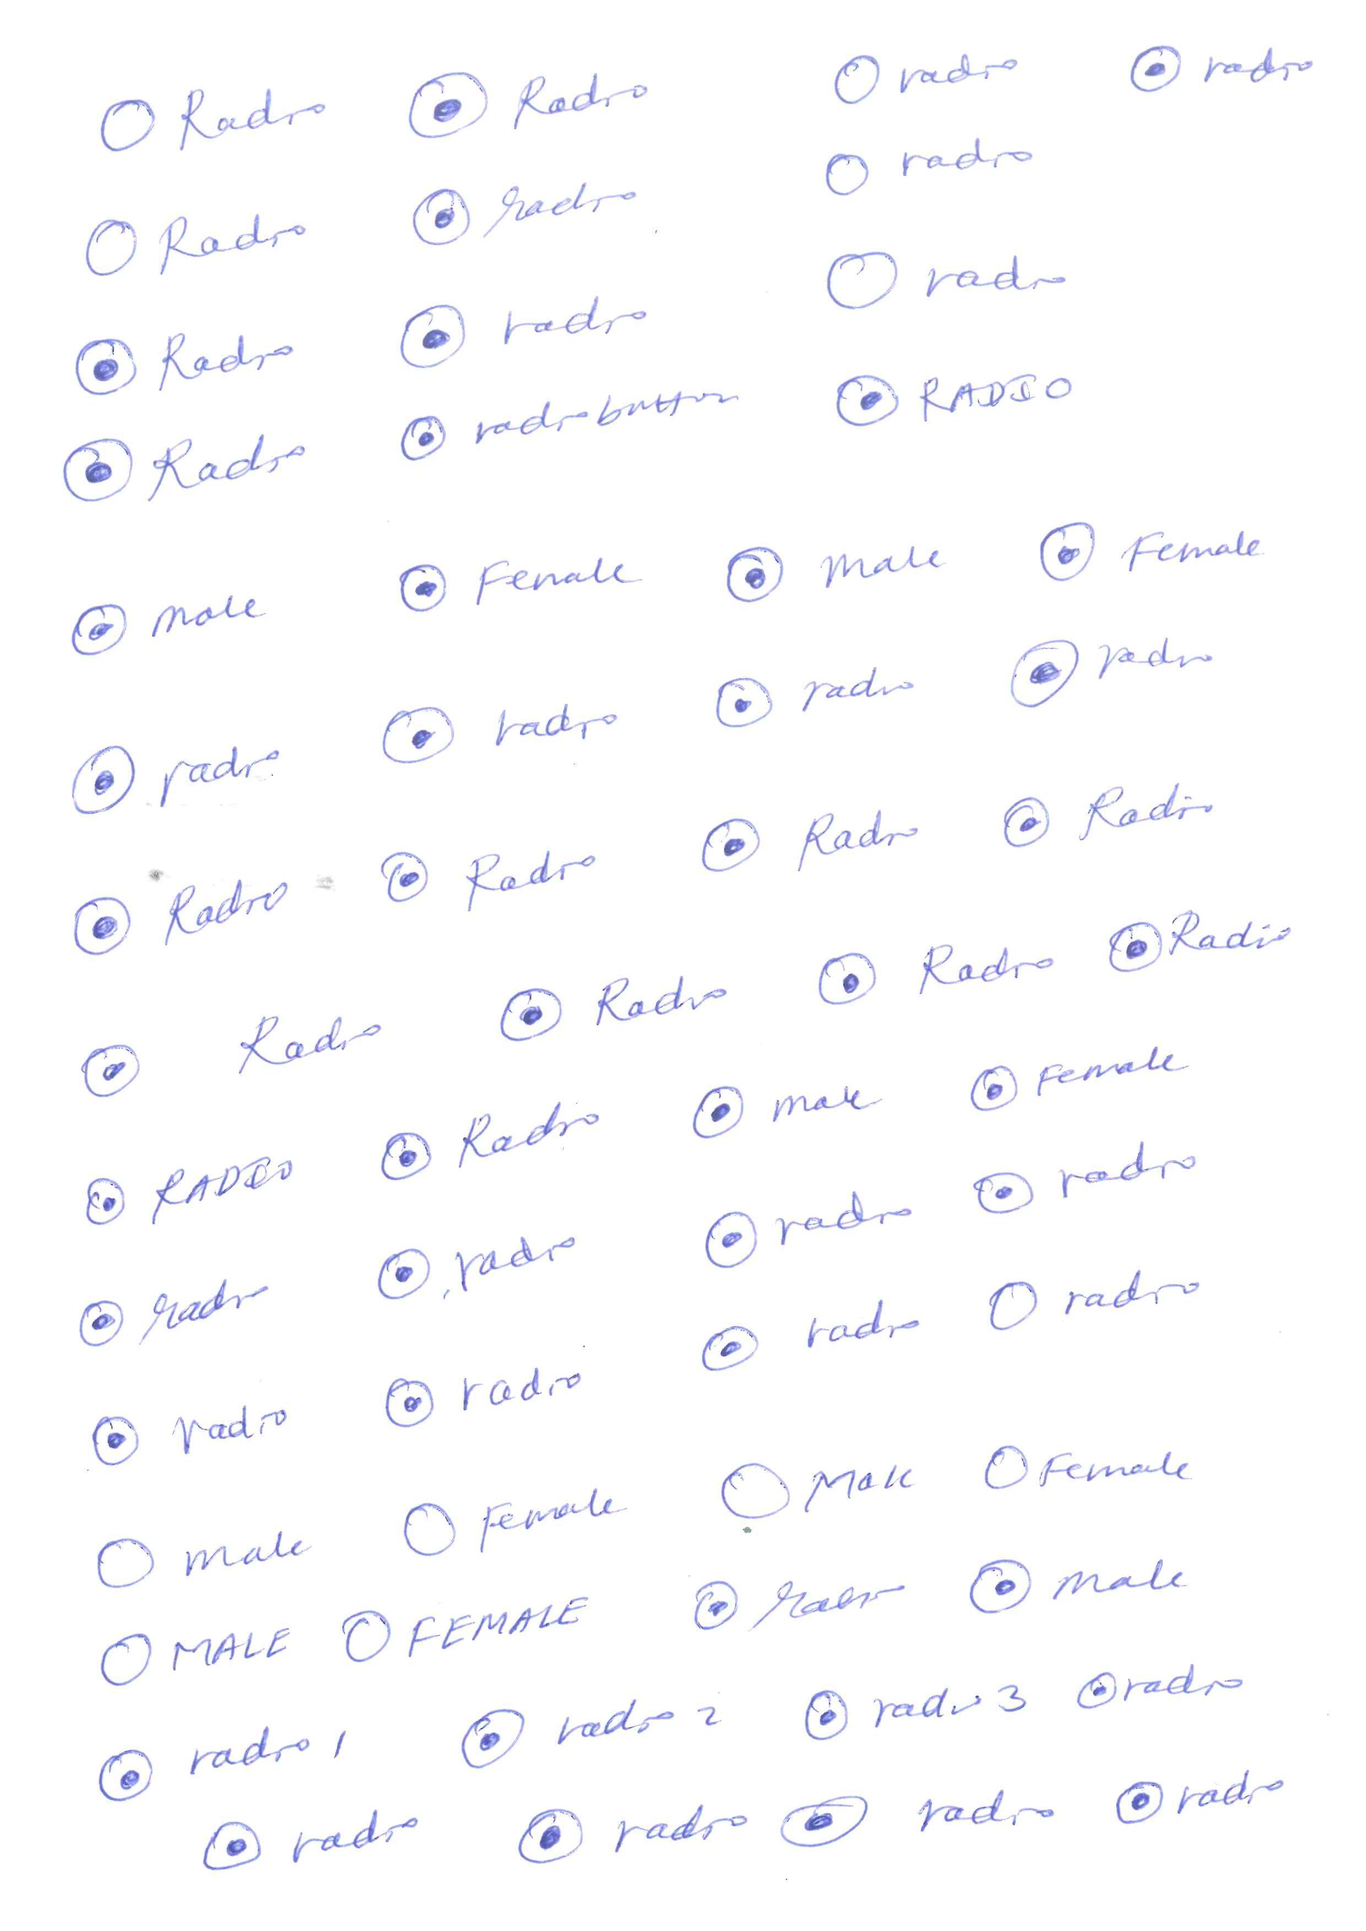Radio Button: (399, 386, 733, 461), (96, 1721, 347, 1804), (457, 1696, 724, 1771), (398, 294, 648, 373), (339, 1592, 591, 1666), (376, 1102, 602, 1183), (61, 430, 309, 504), (71, 877, 290, 957), (704, 1187, 914, 1270), (408, 68, 650, 139), (973, 1138, 1199, 1214), (68, 738, 279, 818), (701, 1298, 920, 1375), (500, 973, 730, 1045), (776, 1791, 1053, 1850), (84, 1155, 296, 1230), (818, 940, 1056, 1007), (99, 84, 327, 154), (516, 1799, 751, 1866), (1008, 636, 1217, 710), (699, 807, 920, 877), (410, 180, 639, 247), (968, 1045, 1192, 1113), (74, 330, 296, 398), (380, 846, 600, 914), (401, 1490, 621, 1558), (826, 248, 1067, 310), (803, 1678, 1027, 1745), (84, 214, 309, 279), (398, 554, 643, 614), (1039, 520, 1261, 586), (75, 1275, 271, 1348), (1002, 781, 1214, 849), (988, 1266, 1202, 1332), (377, 1232, 577, 1303), (378, 705, 616, 764), (724, 541, 945, 605), (200, 1810, 418, 1873), (834, 370, 1075, 427), (713, 665, 917, 730), (690, 1572, 908, 1632), (968, 1555, 1190, 1615), (68, 591, 268, 656), (820, 136, 1032, 197), (89, 1402, 285, 1467), (99, 1623, 293, 1689), (96, 1530, 307, 1589), (1106, 908, 1291, 974), (384, 1368, 582, 1428), (718, 1461, 917, 1518), (690, 1082, 880, 1141), (832, 50, 1022, 106), (985, 1445, 1192, 1490), (1113, 1771, 1286, 1826), (1127, 44, 1314, 93), (1073, 1662, 1243, 1714)
